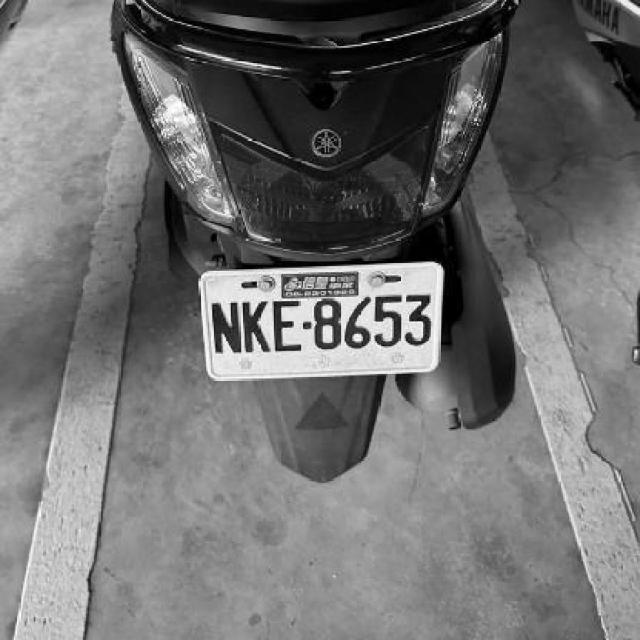-: (302, 322, 312, 331)
3: (403, 292, 432, 348)
5: (372, 294, 402, 349)
6: (343, 296, 372, 350)
8: (312, 297, 345, 351)
E: (270, 300, 302, 352)
K: (240, 300, 274, 354)
N: (208, 300, 242, 355)
